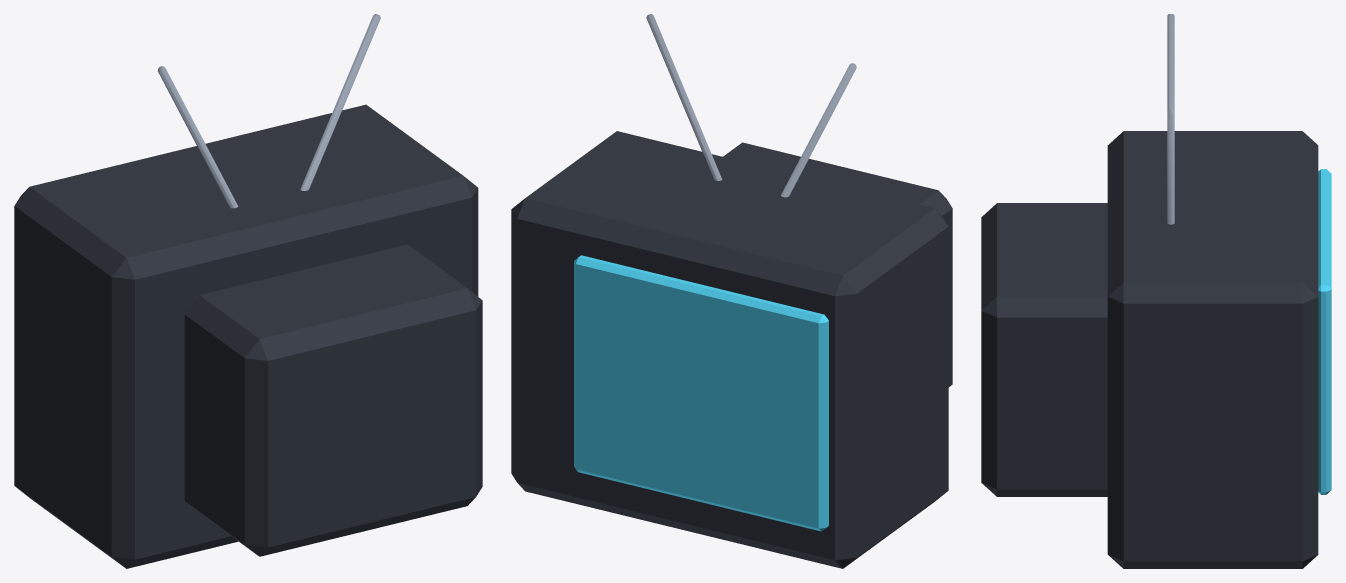
Rendered from prop_crt_tv.obj.
The picture shows the model from 3 angles, left to right: view 1: azimuth 30°, elevation 25°; view 2: azimuth 150°, elevation 25°; view 3: azimuth 270°, elevation 25°; orthographic projection. The views are drawn at different scales.
Visible parts, largest first — view 1: FrontBox, RearTube, AntR, AntL; view 2: FrontBox, Screen, RearTube, AntR, AntL; view 3: FrontBox, RearTube, Screen, AntR, AntL.
Boxes of the visible parts, x1,y1,x2,y2 form: FrontBox: (14,104,478,568); RearTube: (184,244,482,556); AntR: (300,14,380,190); AntL: (157,66,238,208); FrontBox: (511,131,948,568); Screen: (574,255,828,531); RearTube: (723,142,952,387); AntR: (646,14,722,180); AntL: (781,63,856,197); FrontBox: (1107,131,1318,568); RearTube: (981,203,1107,496); Screen: (1318,169,1331,494); AntR: (1167,109,1174,224); AntL: (1167,14,1174,110).
Size of the model in its own units: 0.74 by 0.9038 by 0.665.
